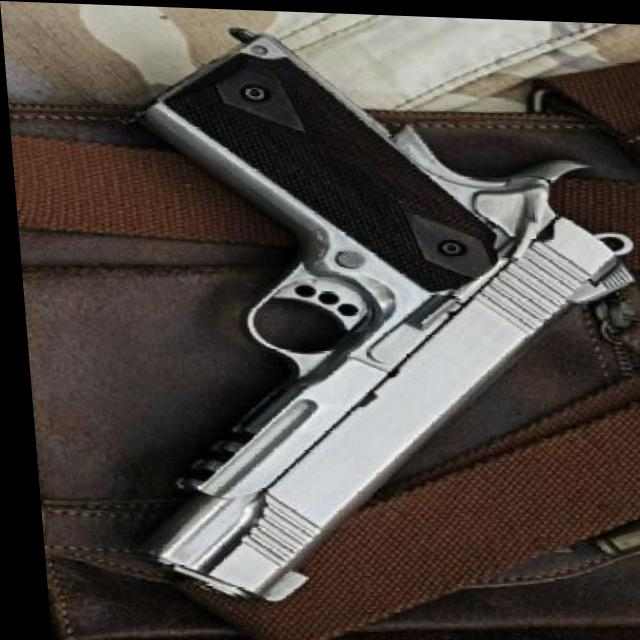handgun: (93, 17, 640, 612)
